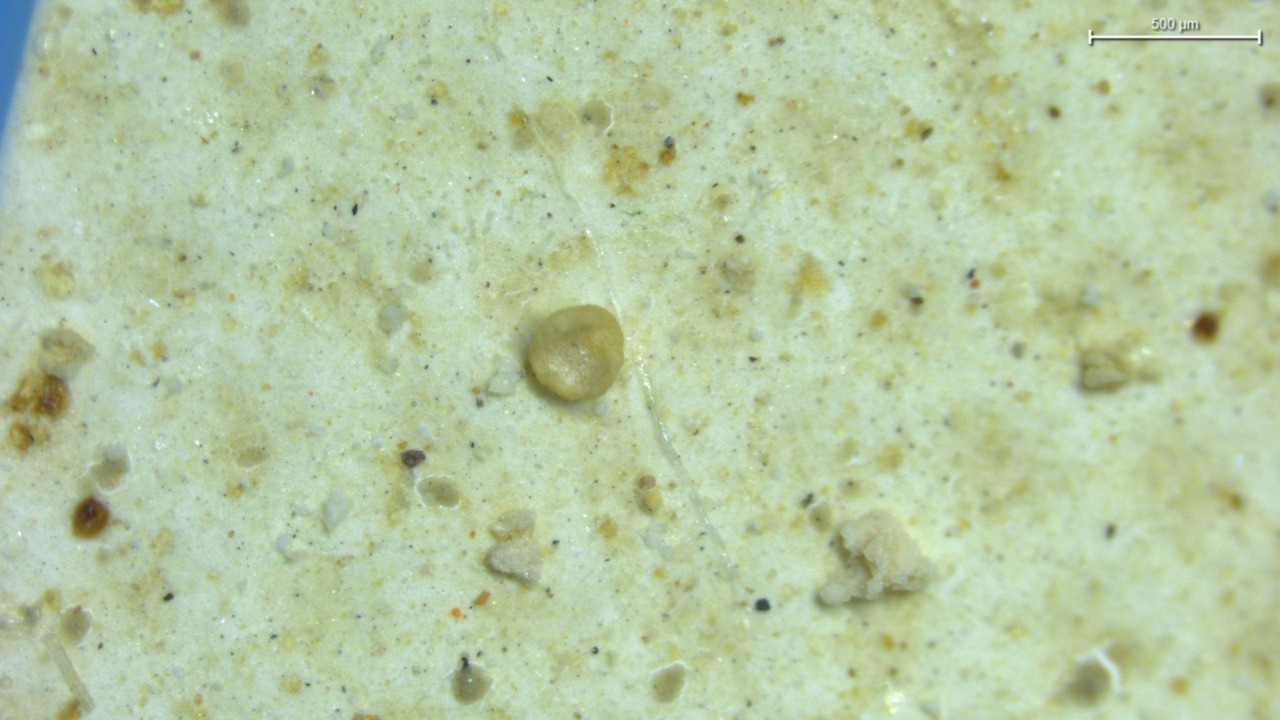microplastic_fragment: (817, 510, 936, 604), (526, 305, 624, 400), (40, 326, 94, 377), (487, 538, 542, 584)
